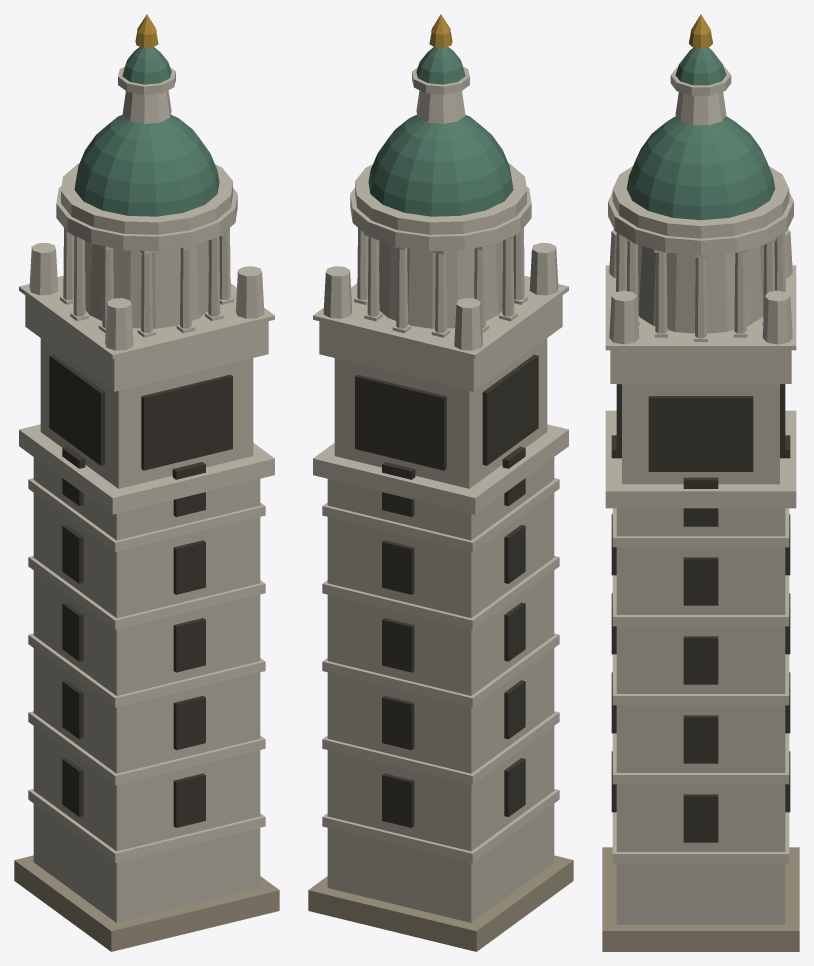
Rendered from queens_tower.glb.
3 views of the same model, side by side, from view 1: azimuth 30°, elevation 25°; view 2: azimuth 150°, elevation 25°; view 3: azimuth 270°, elevation 25° (orthographic).
Parts seen in each view (by area): view 1: queens_tower; view 2: queens_tower; view 3: queens_tower.
Part boxes in pixels (box(x1,y1,x2,y2)): queens_tower: box(14, 14, 279, 951); queens_tower: box(308, 14, 573, 951); queens_tower: box(602, 14, 799, 951).
Bounding box in the file's own units: 17 × 85.1 × 17.
